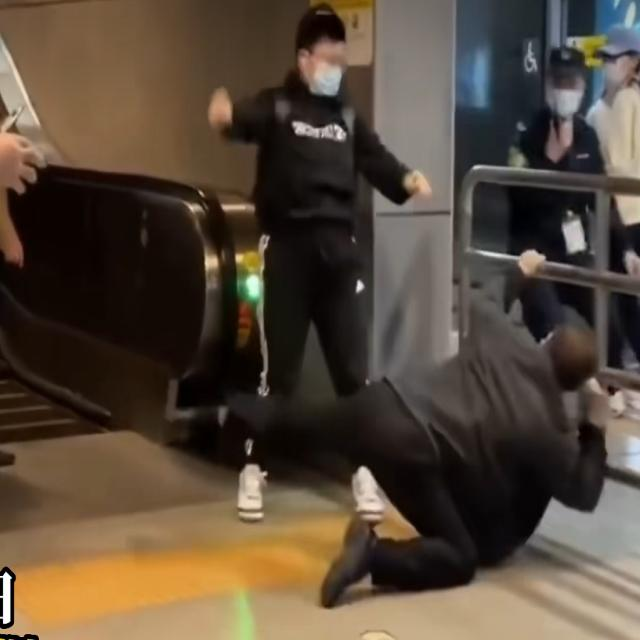nofight: (157, 264, 639, 566), (217, 5, 408, 504)
